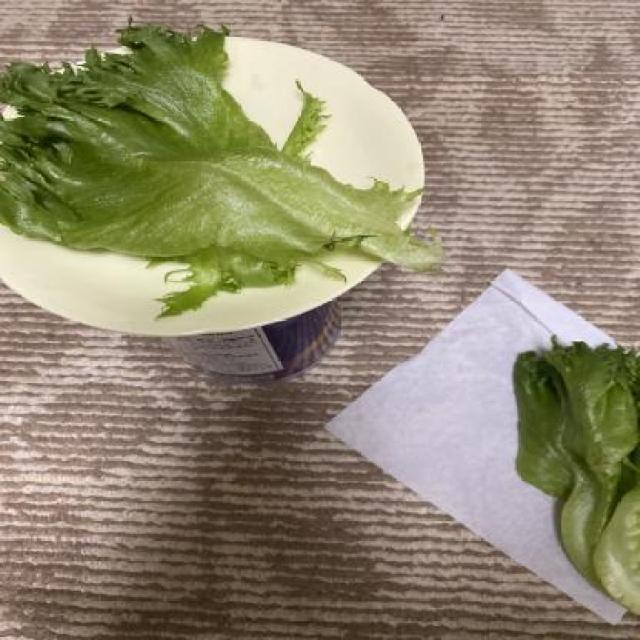Lettuce: (0, 19, 436, 316), (502, 337, 640, 624)
